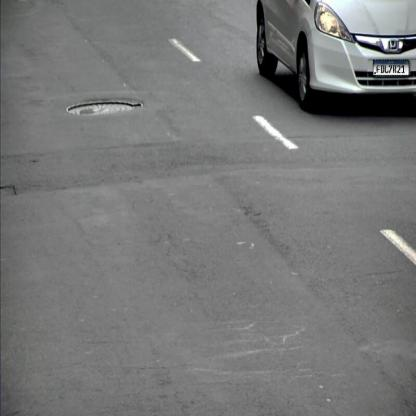PlacaM: (373, 60, 409, 76)
